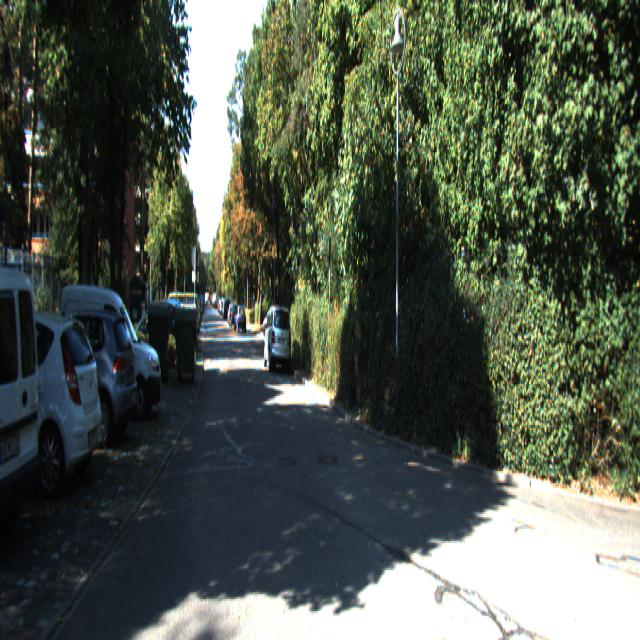Car: (0, 306, 106, 501), (8, 308, 139, 457), (59, 287, 162, 428), (264, 302, 292, 374)
